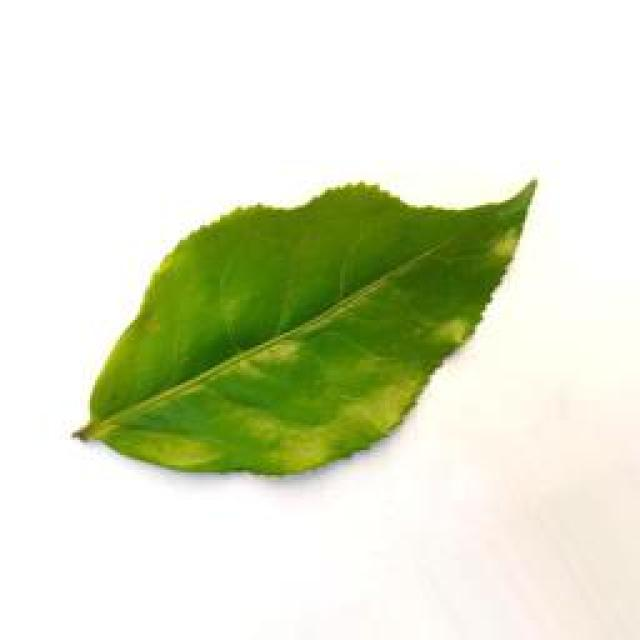Healthy: (64, 164, 541, 496)
